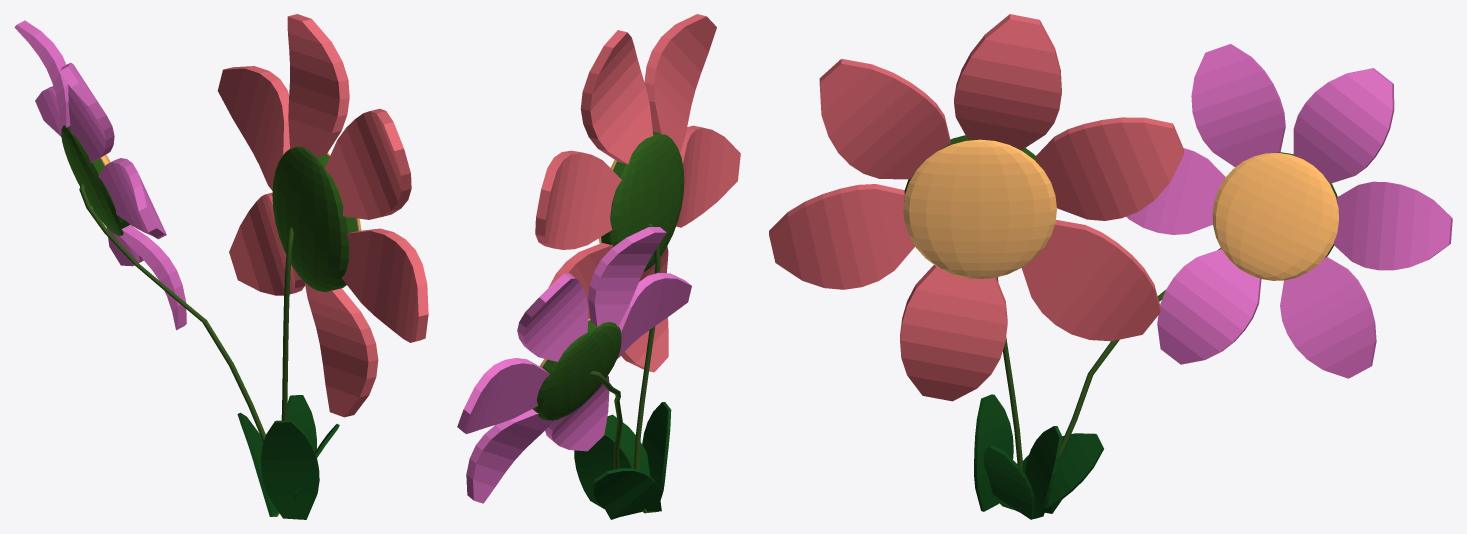
The model's file is flowerscene.gltf.
3 views of the same model, side by side, from view 1: azimuth 30°, elevation 25°; view 2: azimuth 150°, elevation 25°; view 3: azimuth 270°, elevation 25° (orthographic). The views are drawn at different scales.
Visible parts, largest first — view 1: Sphere001, Cube004, Cube005, Cube003, Cube, Cube002, Cube007, Cube001, Cube014, Cube015, Sphere003, Cube010 (+7 smaller); view 2: Cube003, Cube002, Sphere001, Cube004, Sphere003, Cube005, Cube013, Cube012, Cube014, Cube011, Cube015, Cube006 (+8 smaller); view 3: Sphere, Sphere002, Cube005, Cube001, Cube002, Cube, Cube004, Cube003, Cube014, Cube011, Cube013, Cube010 (+8 smaller).
Boxes of the visible parts, x1=… form: Sphere001: x1=272, y1=146, x2=357, y2=291; Cube004: x1=324, y1=108, x2=411, y2=219; Cube005: x1=342, y1=228, x2=428, y2=342; Cube003: x1=287, y1=14, x2=349, y2=157; Cube: x1=304, y1=282, x2=378, y2=417; Cube002: x1=217, y1=66, x2=289, y2=190; Cube007: x1=261, y1=420, x2=319, y2=519; Cube001: x1=229, y1=192, x2=304, y2=295; Cube014: x1=60, y1=62, x2=114, y2=162; Cube015: x1=98, y1=158, x2=166, y2=239; Sphere003: x1=61, y1=125, x2=130, y2=235; Cube010: x1=119, y1=225, x2=186, y2=330; Cube003: x1=580, y1=30, x2=653, y2=164; Cube002: x1=535, y1=150, x2=621, y2=249; Sphere001: x1=601, y1=131, x2=684, y2=271; Cube004: x1=644, y1=14, x2=716, y2=152; Sphere003: x1=533, y1=320, x2=621, y2=420; Cube005: x1=676, y1=125, x2=740, y2=227; Cube013: x1=517, y1=273, x2=588, y2=361; Cube012: x1=457, y1=358, x2=549, y2=433; Cube014: x1=588, y1=227, x2=666, y2=326; Cube011: x1=466, y1=409, x2=554, y2=503; Cube015: x1=617, y1=272, x2=691, y2=358; Cube006: x1=591, y1=468, x2=661, y2=519; Sphere: x1=903, y1=139, x2=1056, y2=278; Sphere002: x1=1212, y1=153, x2=1338, y2=280; Cube005: x1=769, y1=184, x2=914, y2=289; Cube001: x1=1021, y1=220, x2=1160, y2=341; Cube002: x1=1036, y1=117, x2=1183, y2=220; Cube: x1=900, y1=265, x2=1007, y2=401; Cube004: x1=819, y1=58, x2=950, y2=179; Cube003: x1=954, y1=14, x2=1061, y2=149; Cube014: x1=1191, y1=44, x2=1285, y2=167; Cube011: x1=1280, y1=257, x2=1376, y2=378; Cube013: x1=1293, y1=68, x2=1394, y2=183; Cube010: x1=1157, y1=249, x2=1261, y2=364.
Size of the model in its own units: 2.14 by 5.85 by 7.21.
